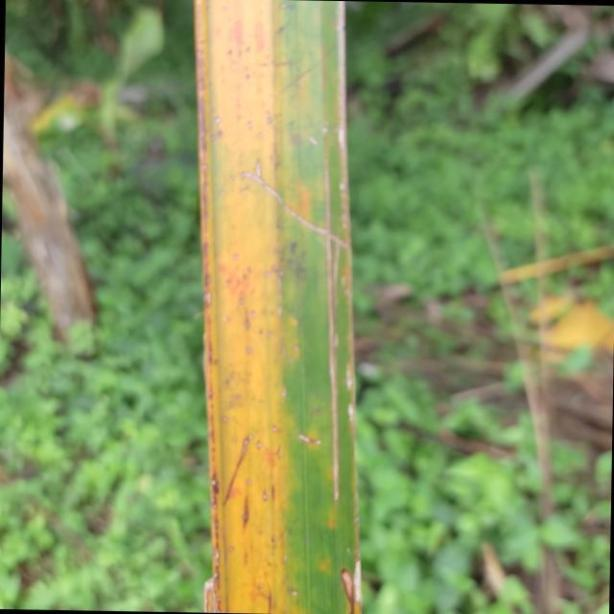Megnesium: (189, 0, 361, 614)
